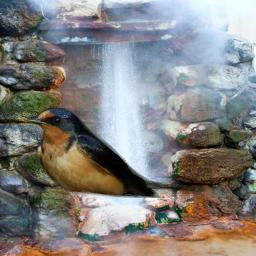Swallow: (27, 108, 208, 198)
